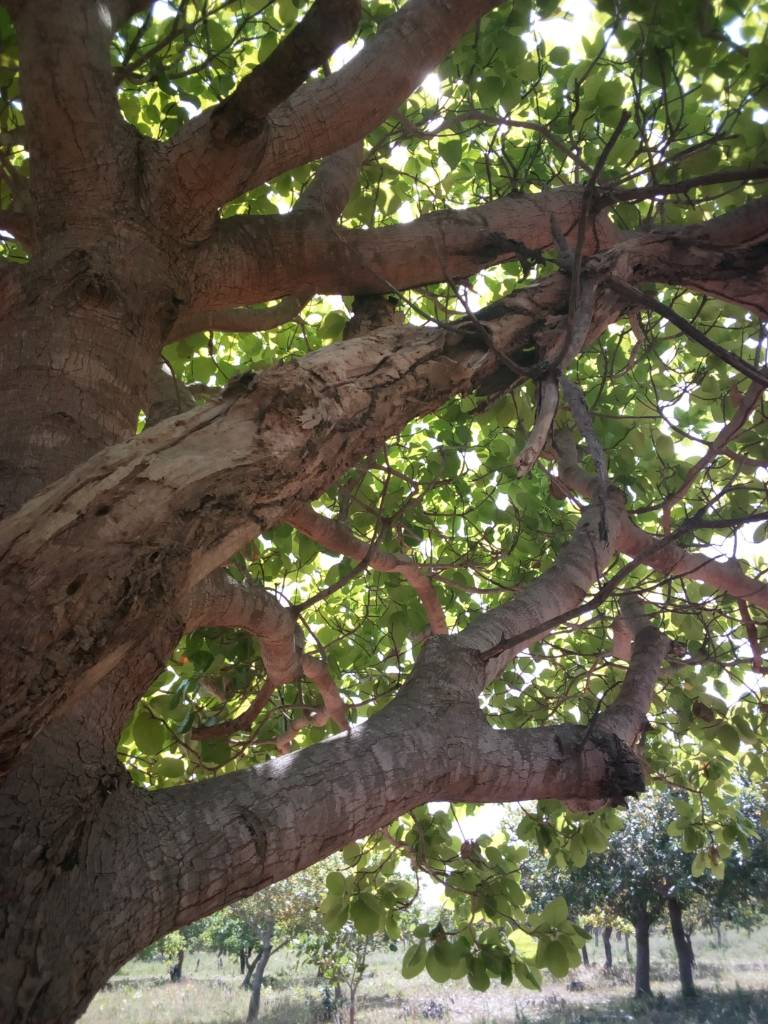Termites: (18, 291, 485, 717)
